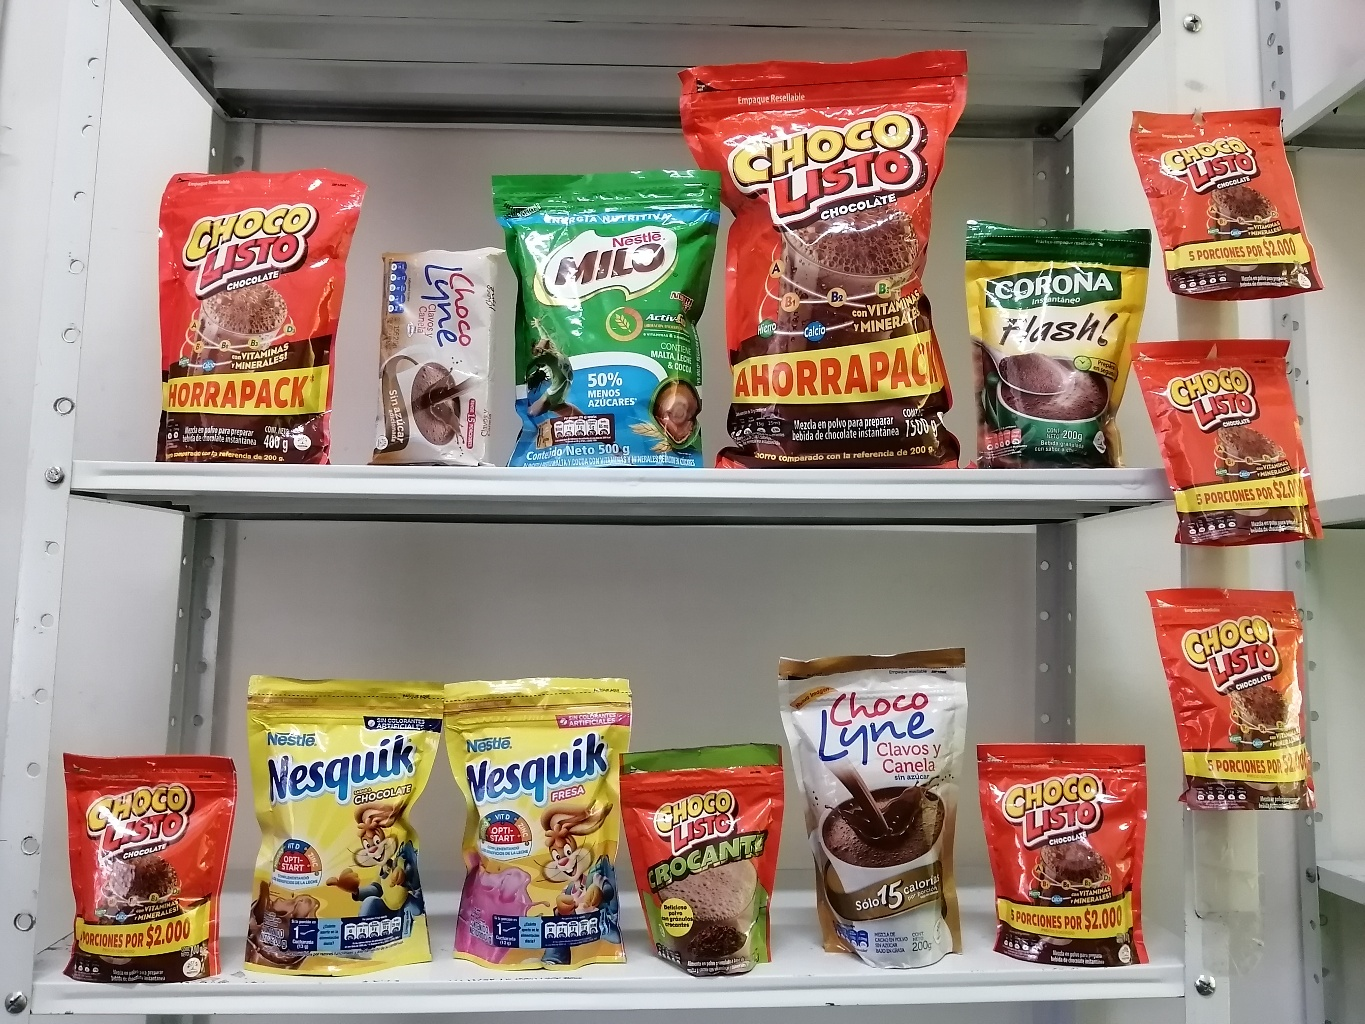COL0170102DYP10000: (610, 744, 779, 981)
COL0170103DYP1,500: (673, 40, 981, 468)
COL0170103DYP10000: (1128, 106, 1324, 307)
COL0170103DYP40000: (151, 168, 366, 466)
COL0170205DYP50000: (497, 163, 727, 469)
COL0170303DYP20000: (248, 672, 449, 969)
COL0170305DYP20000: (453, 675, 643, 959)
